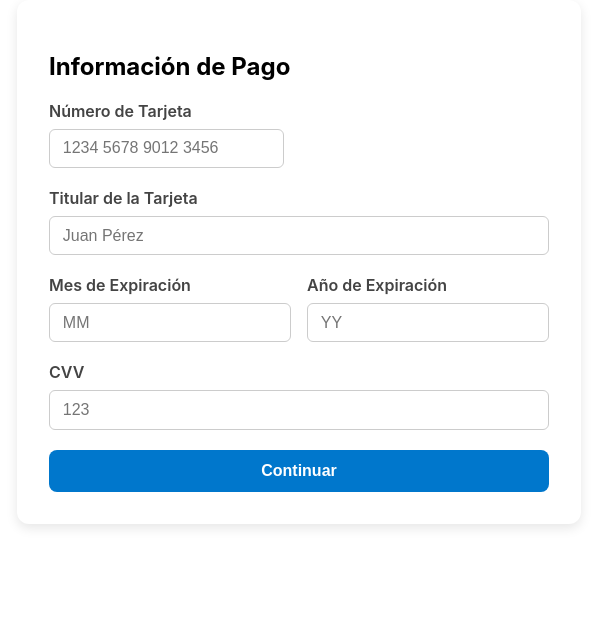
it: PaymentForm Component › shows validation error for invalid expiry month
Step 1. Type "13" into the field labelled "Mes de Expiración" → (170, 323), box [49,303,291,342]
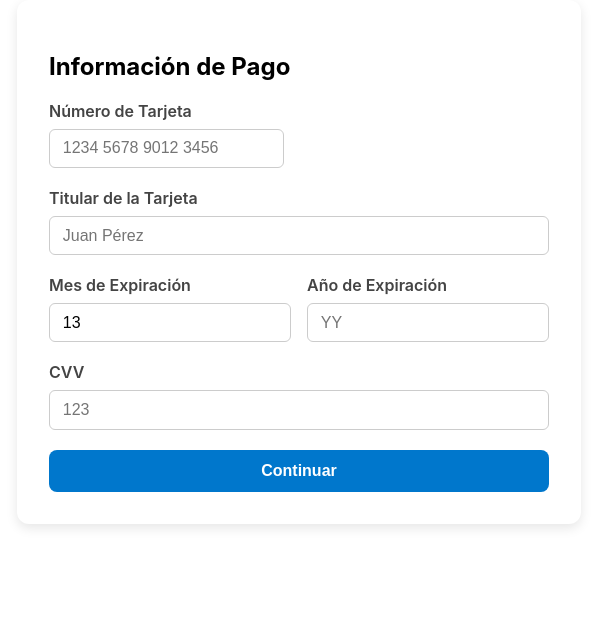
Step 2. Click the button "Continuar" → (299, 471), box [49,450,549,492]
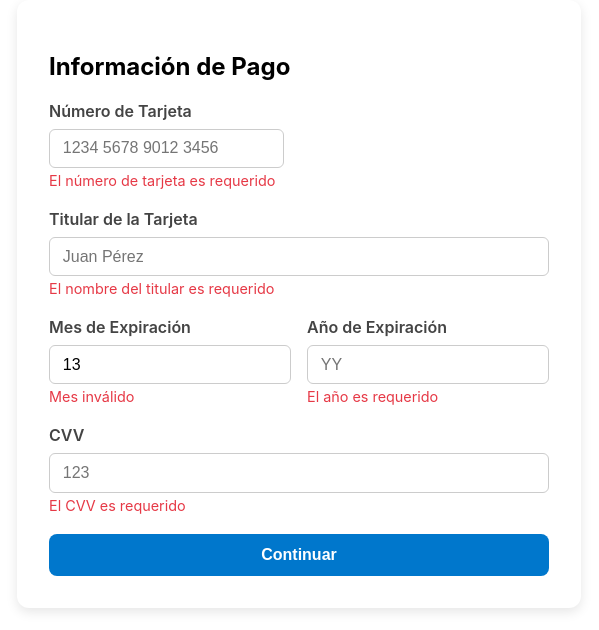
Now the text "Mes inválido" is shown, box [49,388,134,405]
